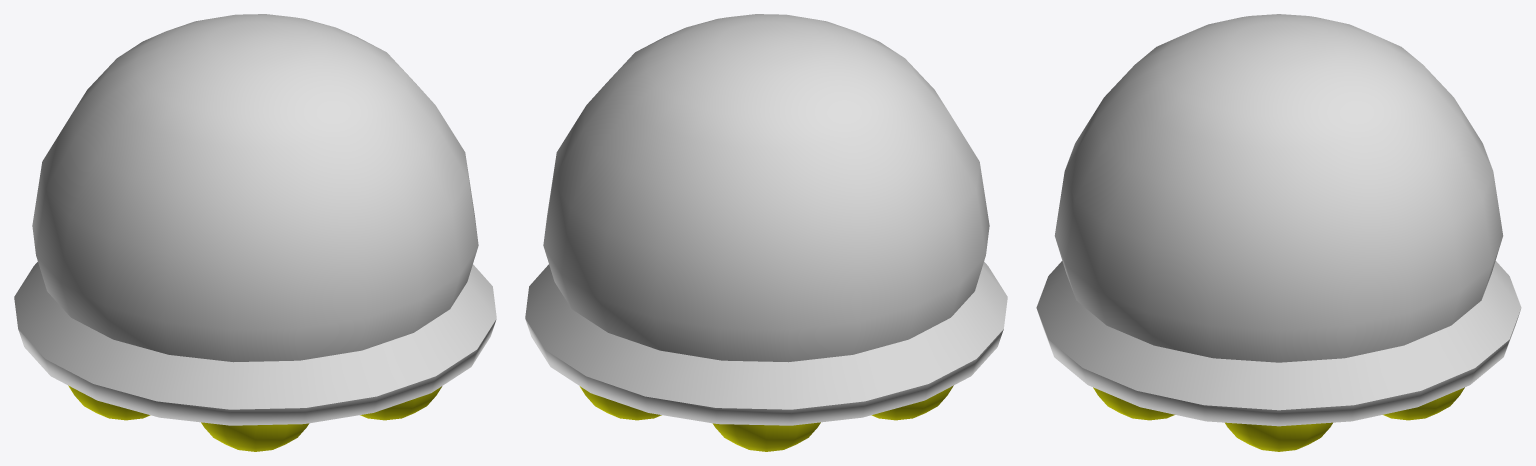
File: ufo.fbx
3 renders of one model, left to right at view 1: azimuth 30°, elevation 25°; view 2: azimuth 150°, elevation 25°; view 3: azimuth 270°, elevation 25°, orthographic.
Visible parts, largest first — view 1: polySurface1; view 2: polySurface1; view 3: polySurface1.
Boxes of the visible parts, bbox=[...] form: polySurface1: bbox=[14, 14, 496, 451]; polySurface1: bbox=[525, 14, 1007, 451]; polySurface1: bbox=[1036, 14, 1521, 451].
Size of the model in its own units: 54.42 by 42.59 by 54.42.
